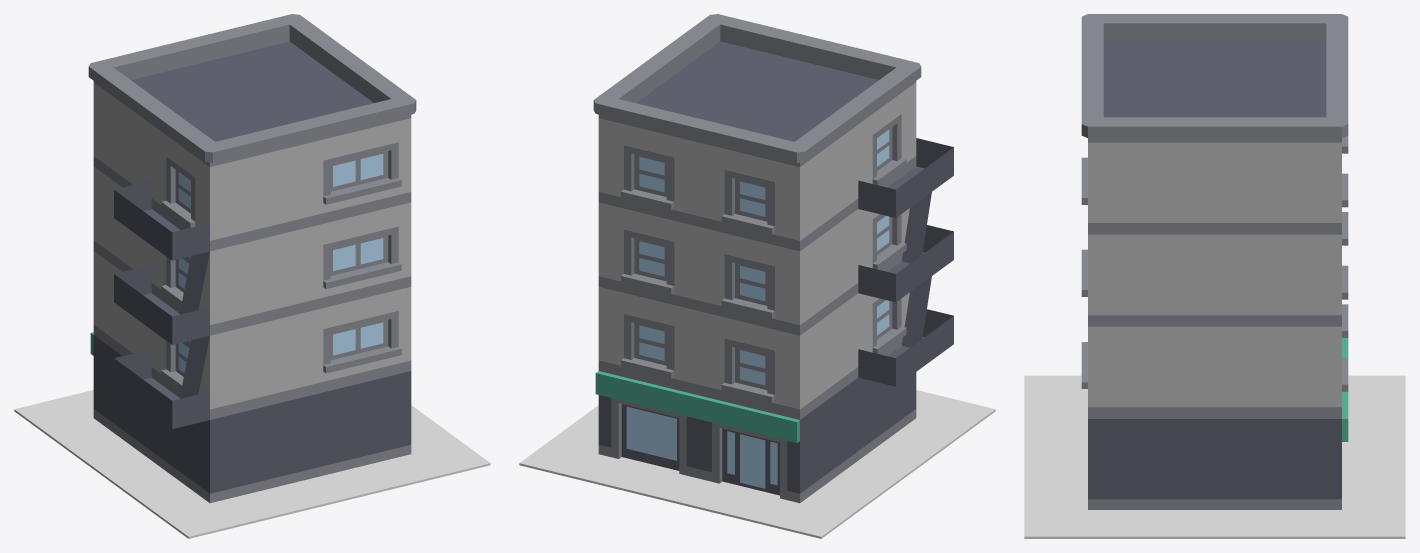
File: building3x3.glb
3 views of the same model, side by side, from view 1: azimuth 30°, elevation 25°; view 2: azimuth 150°, elevation 25°; view 3: azimuth 270°, elevation 25° (orthographic). The views are drawn at different scales.
Visible parts, largest first — view 1: large_buildingC, Cube; view 2: large_buildingC, Cube; view 3: large_buildingC, Cube.
Part boxes in pixels (x1=…): large_buildingC: x1=88, y1=14, x2=416, y2=503; Cube: x1=14, y1=390, x2=490, y2=538; large_buildingC: x1=593, y1=14, x2=953, y2=503; Cube: x1=519, y1=390, x2=995, y2=538; large_buildingC: x1=1081, y1=14, x2=1348, y2=509; Cube: x1=1024, y1=375, x2=1405, y2=538.
Size of the model in its own units: 30 by 33.7 by 30.
